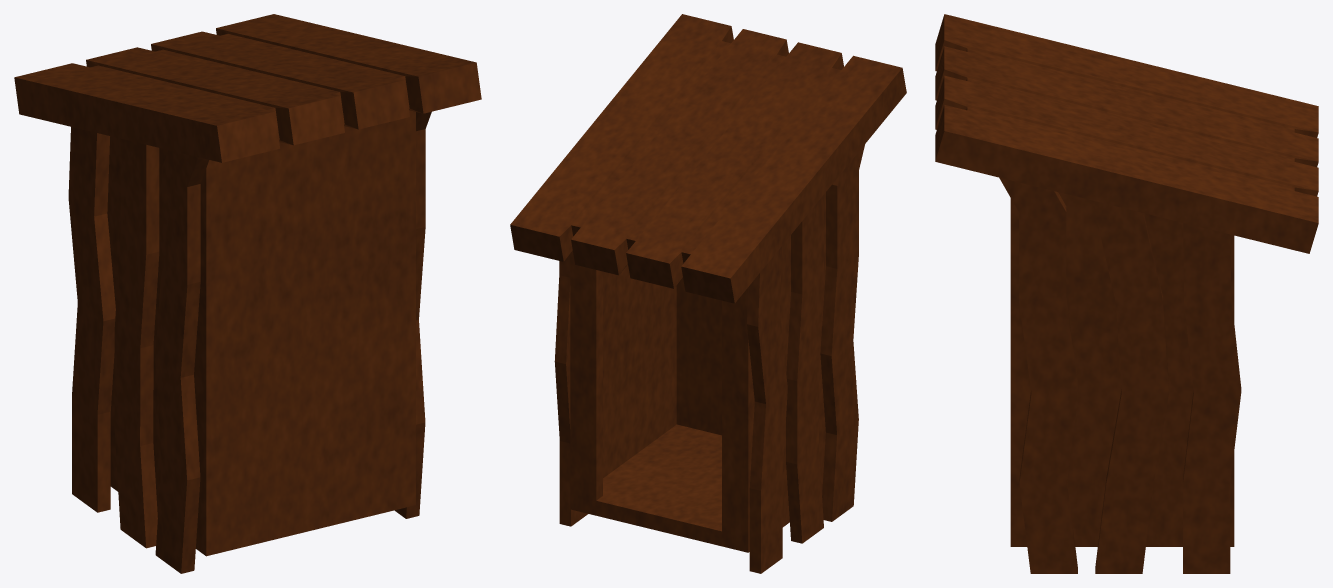
The model's file is wood shack.fbx.
3 views of the same model, side by side, from view 1: azimuth 30°, elevation 25°; view 2: azimuth 150°, elevation 25°; view 3: azimuth 270°, elevation 25° (orthographic). The views are drawn at different scales.
Parts seen in each view (by area): view 1: shack; view 2: shack; view 3: shack.
Part boxes in pixels (x1=…): shack: x1=14, y1=14, x2=481, y2=573; shack: x1=510, y1=14, x2=906, y2=573; shack: x1=935, y1=14, x2=1318, y2=573.
Bounding box in the file's own units: 248 × 442 × 343.
